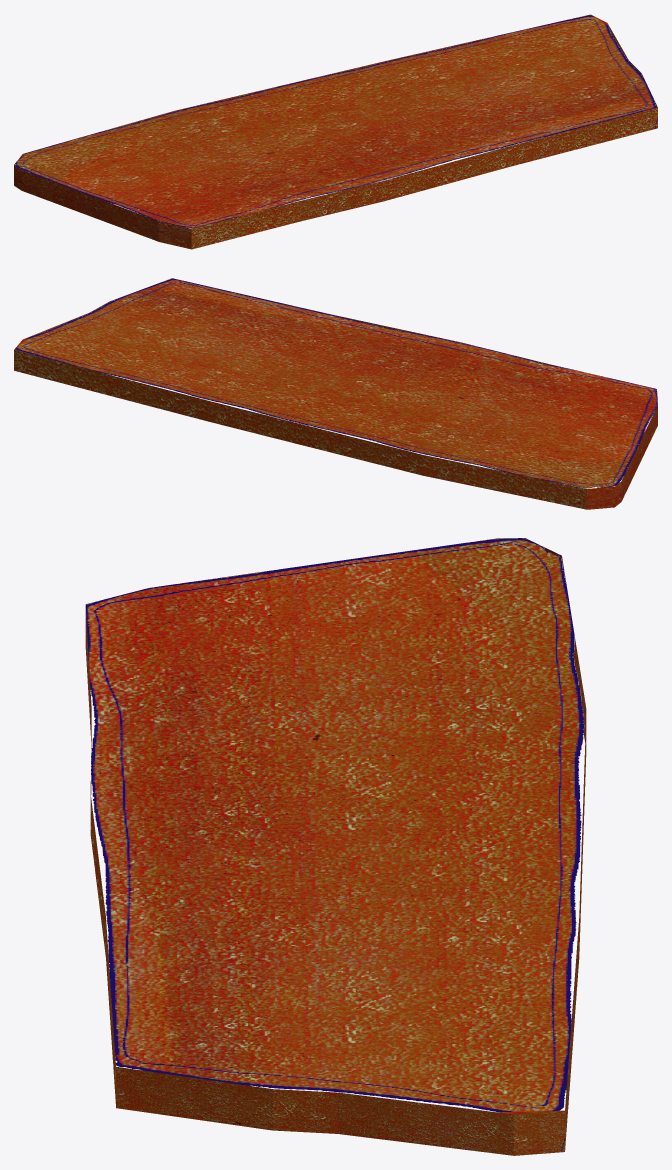
File: brick_01.fbx
The picture shows the model from 3 angles, top to bottom: view 1: azimuth 30°, elevation 25°; view 2: azimuth 150°, elevation 25°; view 3: azimuth 270°, elevation 25°; orthographic projection. The views are drawn at different scales.
Visible parts, largest first — view 1: 紅地磚_01; view 2: 紅地磚_01; view 3: 紅地磚_01.
Part boxes in pixels (<box>): 紅地磚_01: <box>14,14,657,249</box>; 紅地磚_01: <box>14,278,657,509</box>; 紅地磚_01: <box>85,538,586,1155</box>.
Bounding box in the file's own units: 463 × 15.51 × 170.
Materials: 1 (1 with a texture image).
